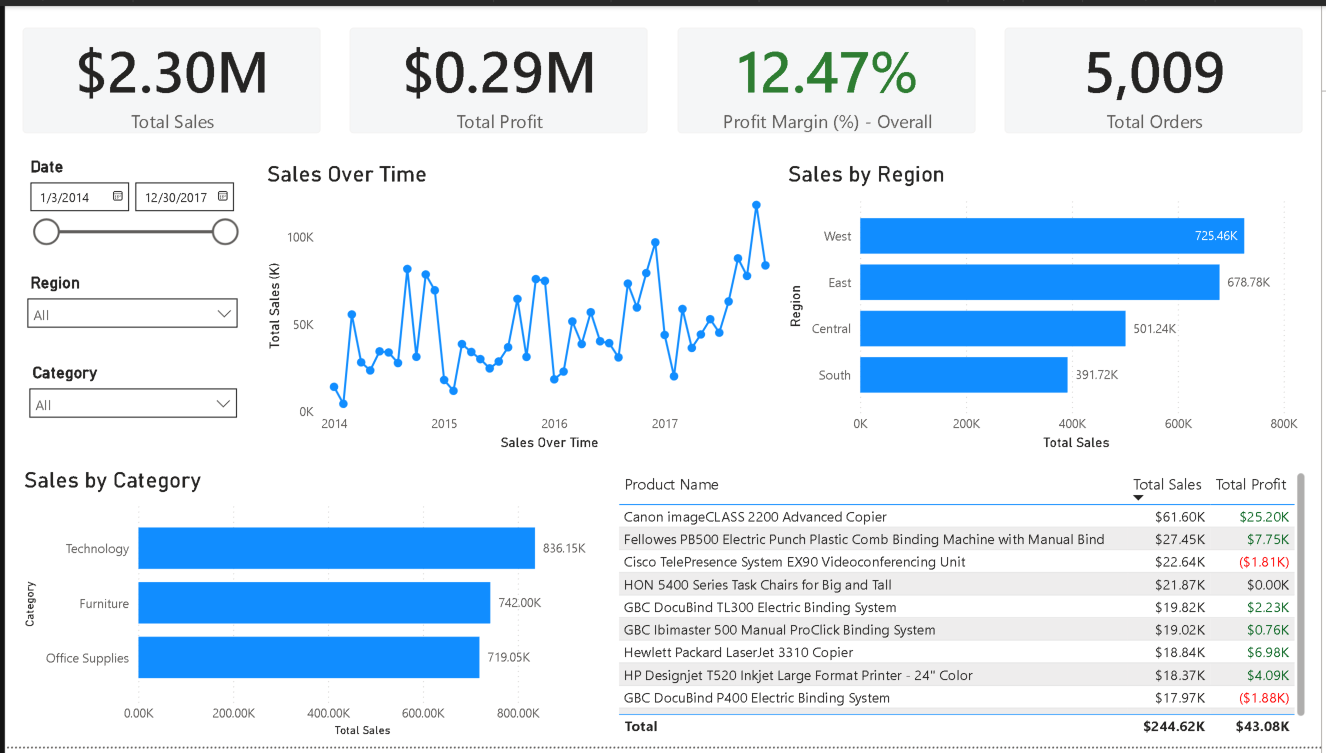

What the dashboard file says about the page in this screenshot:
{"tool":"powerbi","page":{"name":"Page 1","canvas":[1280,720],"ordinal":0},"visuals":[{"type":"cardVisual","fields":{"Data":["Sum(sales_cleaned.Sales)"]},"box":[0,3.5,324.8,137],"z":0,"group":"g1"},{"type":"lineChart","title":"Sales Over Time","fields":{"Y":["Sum(sales_cleaned.Sales)"],"Category":["sales_cleaned.Order Date.Variation.Date Hierarchy.Year","sales_cleaned.Order Date.Variation.Date Hierarchy.Month"]},"box":[249.8,150.9,506.6,285.8],"z":0},{"type":"cardVisual","fields":{"Data":["Sum(sales_cleaned.Profit)"]},"box":[318.5,3.5,324.8,137],"z":1000,"group":"g1"},{"type":"clusteredBarChart","title":"Sales by Category","fields":{"Category":["sales_cleaned.Category"],"Y":["Sum(sales_cleaned.Sales)"]},"box":[14,448.6,577.5,266.8],"z":1000},{"type":"cardVisual","fields":{"Data":["Count(sales_cleaned.Order ID)"]},"box":[955.4,3.5,324.8,137],"z":2000,"group":"g1"},{"type":"clusteredBarChart","title":"Sales by Region","fields":{"Category":["sales_cleaned.Region"],"Y":["Sum(sales_cleaned.Sales)"]},"box":[756.4,150.9,513.6,285.8],"z":2000},{"type":"tableEx","fields":{"Values":["sales_cleaned.Product Name","Sum(sales_cleaned.Sales)","Sum(sales_cleaned.Profit)"]},"box":[591.5,448.6,678.5,266.8],"z":3000},{"type":"group","id":"g1","title":"Group 1","box":[0,3.5,1280.3,137],"z":4000},{"type":"group","id":"g2","title":"Group 2","box":[12,142,224.6,287.4],"z":5000},{"type":"slicer","fields":{"Values":["sales_cleaned.Order Date"]},"box":[12,142,223.4,150.1],"z":7000,"group":"g2"},{"type":"slicer","fields":{"Values":["sales_cleaned.Category"]},"box":[14,342.2,221.8,87.2],"z":8000,"group":"g2"},{"type":"slicer","fields":{"Values":["sales_cleaned.Region"]},"box":[12,254.9,224.6,88.4],"z":9000,"group":"g2"},{"type":"cardVisual","fields":{"Data":["sales_cleaned.Profit Margin1"]},"box":[637,3.5,324.8,137],"z":10000,"group":"g1"}]}

Visuals, with their boxes in screenshot pixels (x1, y1, x2, y2), scaled from the page's 1280x720 canvas onto the 1326x753 screenshot:
cardVisual - Sum(sales_cleaned.Sales): x1=0 y1=4 x2=336 y2=147
"Sales Over Time" lineChart: x1=259 y1=158 x2=784 y2=457
cardVisual - Sum(sales_cleaned.Profit): x1=330 y1=4 x2=666 y2=147
"Sales by Category" clusteredBarChart: x1=15 y1=469 x2=613 y2=748
cardVisual - Count(sales_cleaned.Order ID): x1=990 y1=4 x2=1325 y2=147
"Sales by Region" clusteredBarChart: x1=784 y1=158 x2=1316 y2=457
tableEx - sales_cleaned.Product Name x Sum(sales_cleaned.Sales): x1=613 y1=469 x2=1316 y2=748
"Group 1" group: x1=0 y1=4 x2=1325 y2=147
"Group 2" group: x1=12 y1=149 x2=245 y2=449
slicer - sales_cleaned.Order Date: x1=12 y1=149 x2=244 y2=305
slicer - sales_cleaned.Category: x1=15 y1=358 x2=244 y2=449
slicer - sales_cleaned.Region: x1=12 y1=267 x2=245 y2=359
cardVisual - sales_cleaned.Profit Margin1: x1=660 y1=4 x2=996 y2=147
